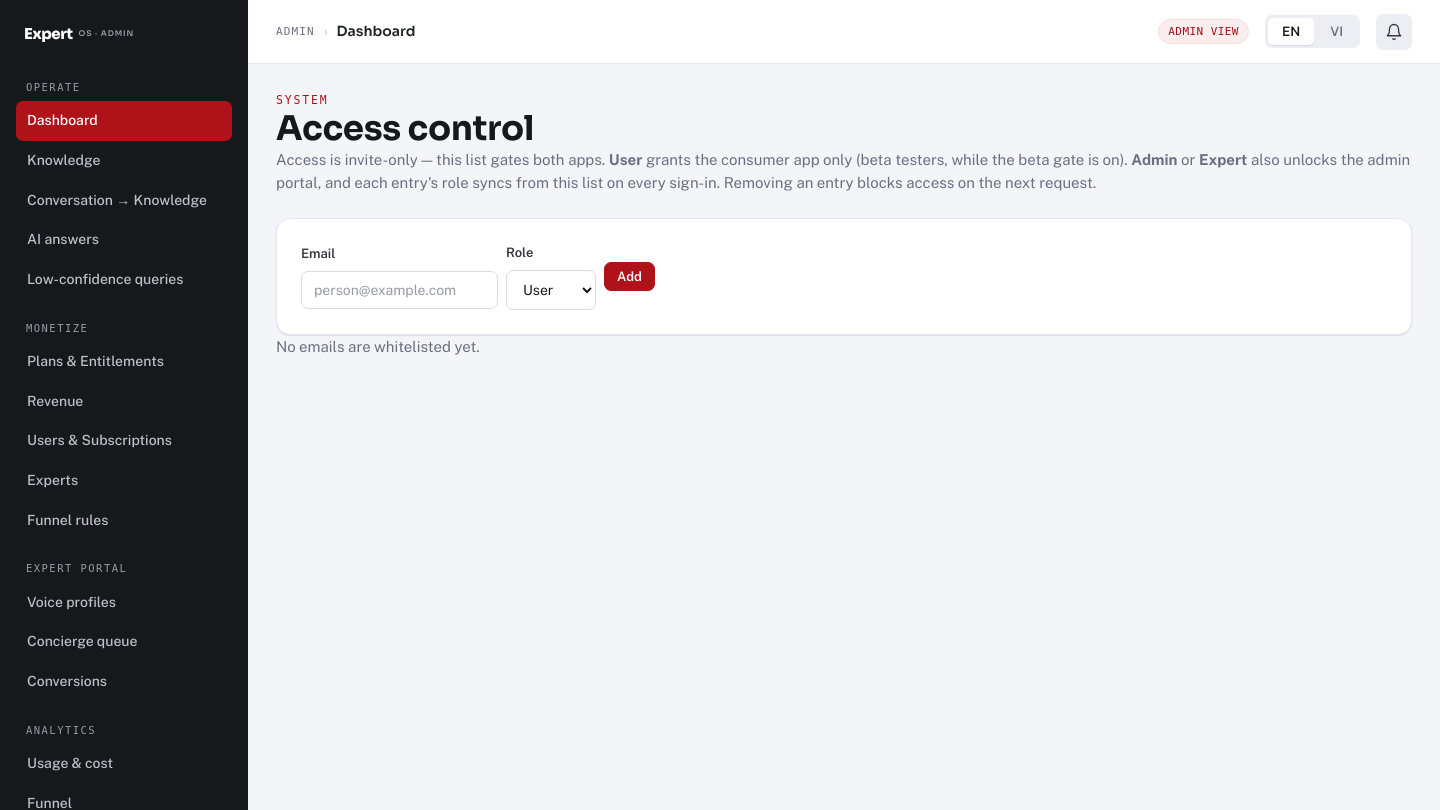
AccessControlPage — add › posts a new whitelist entry and shows the added notice
expect the text "No emails are whitelisted yet." is shown: met, box x1=276 y1=338 x2=480 y2=354
Type "New@Example.com" into the field with placeholder "person@example.com" at (400, 290), box x1=301 y1=270 x2=498 y2=308
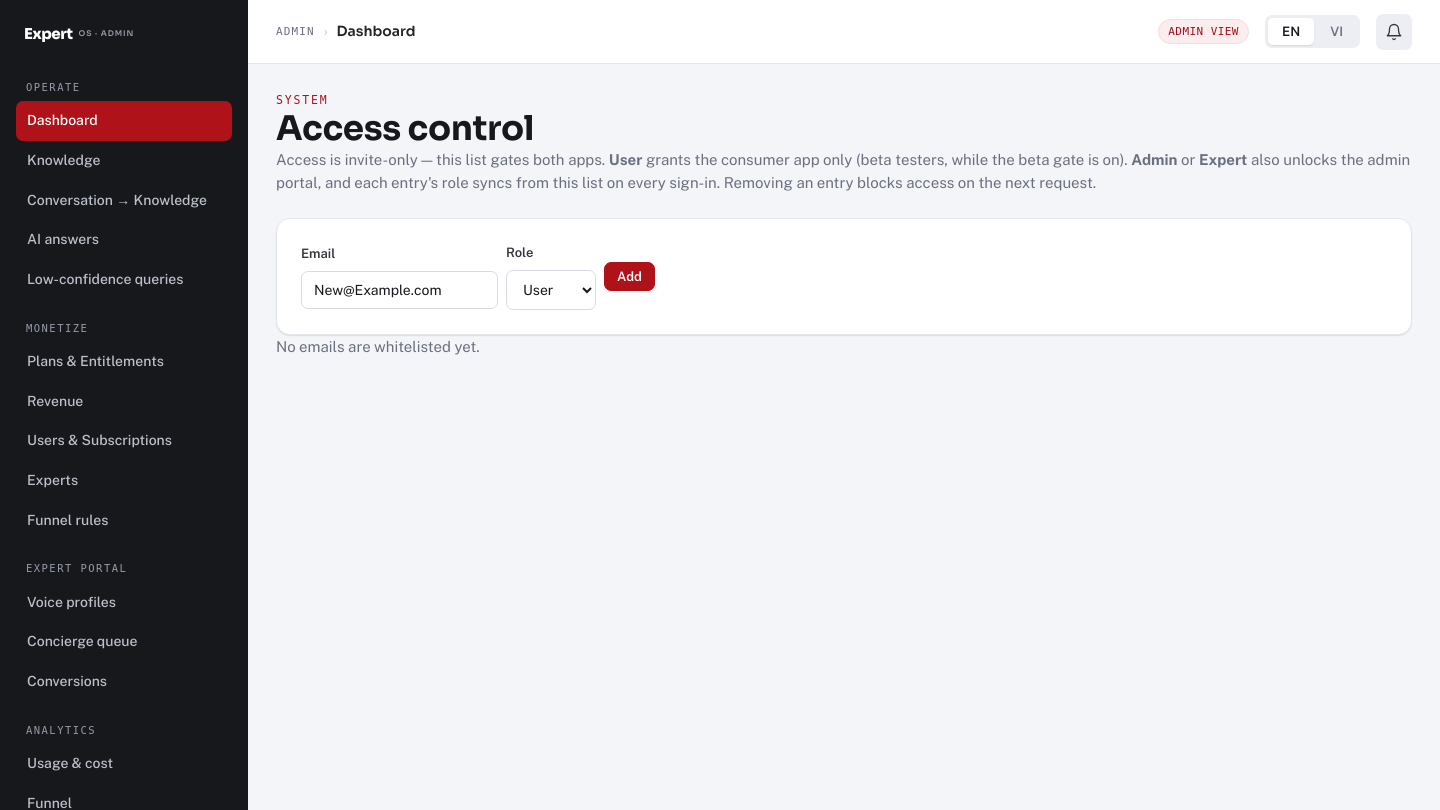
Click the button "Add" at (629, 276), box x1=604 y1=262 x2=655 y2=291
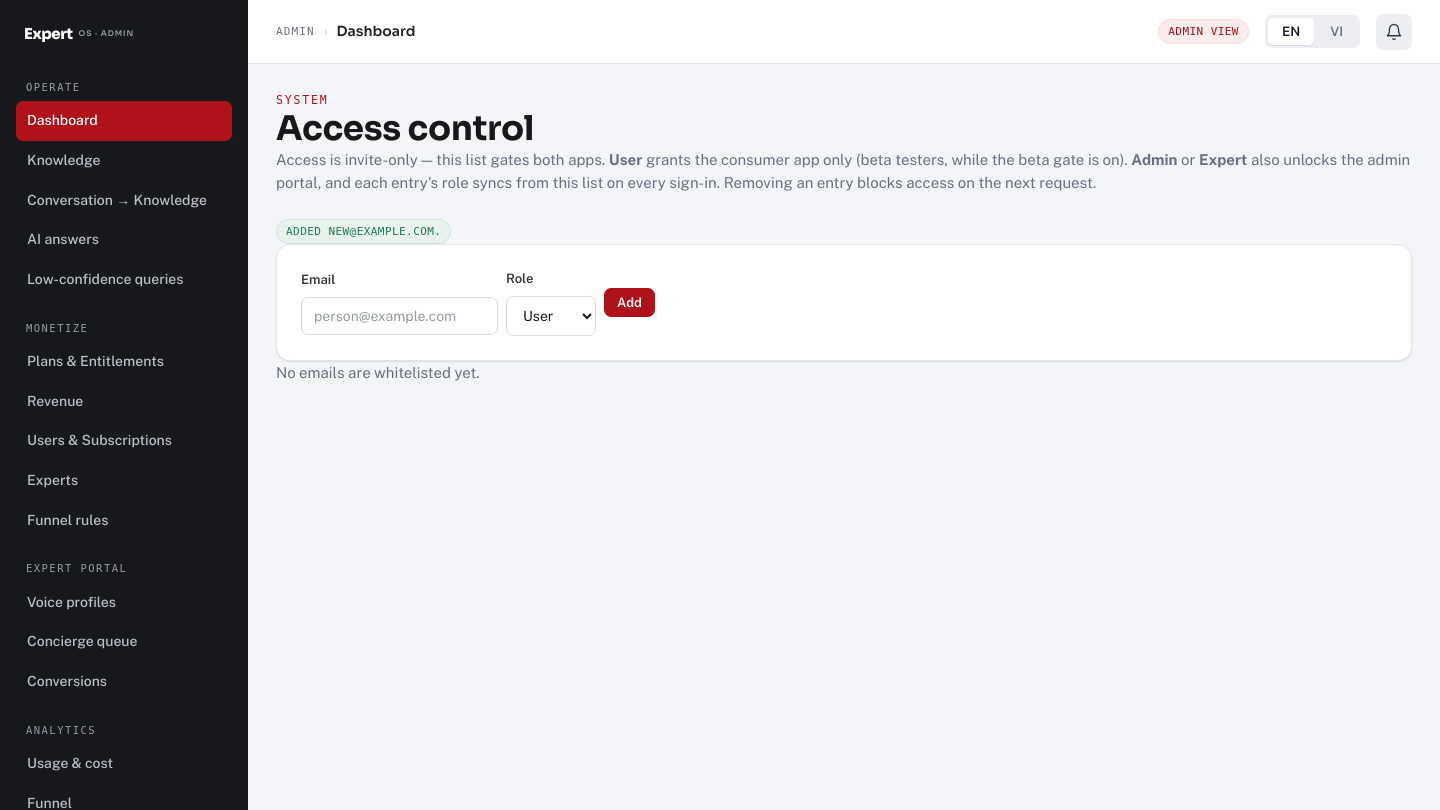
expect the text "Added new@example.com." is shown: met, box x1=276 y1=219 x2=451 y2=244
